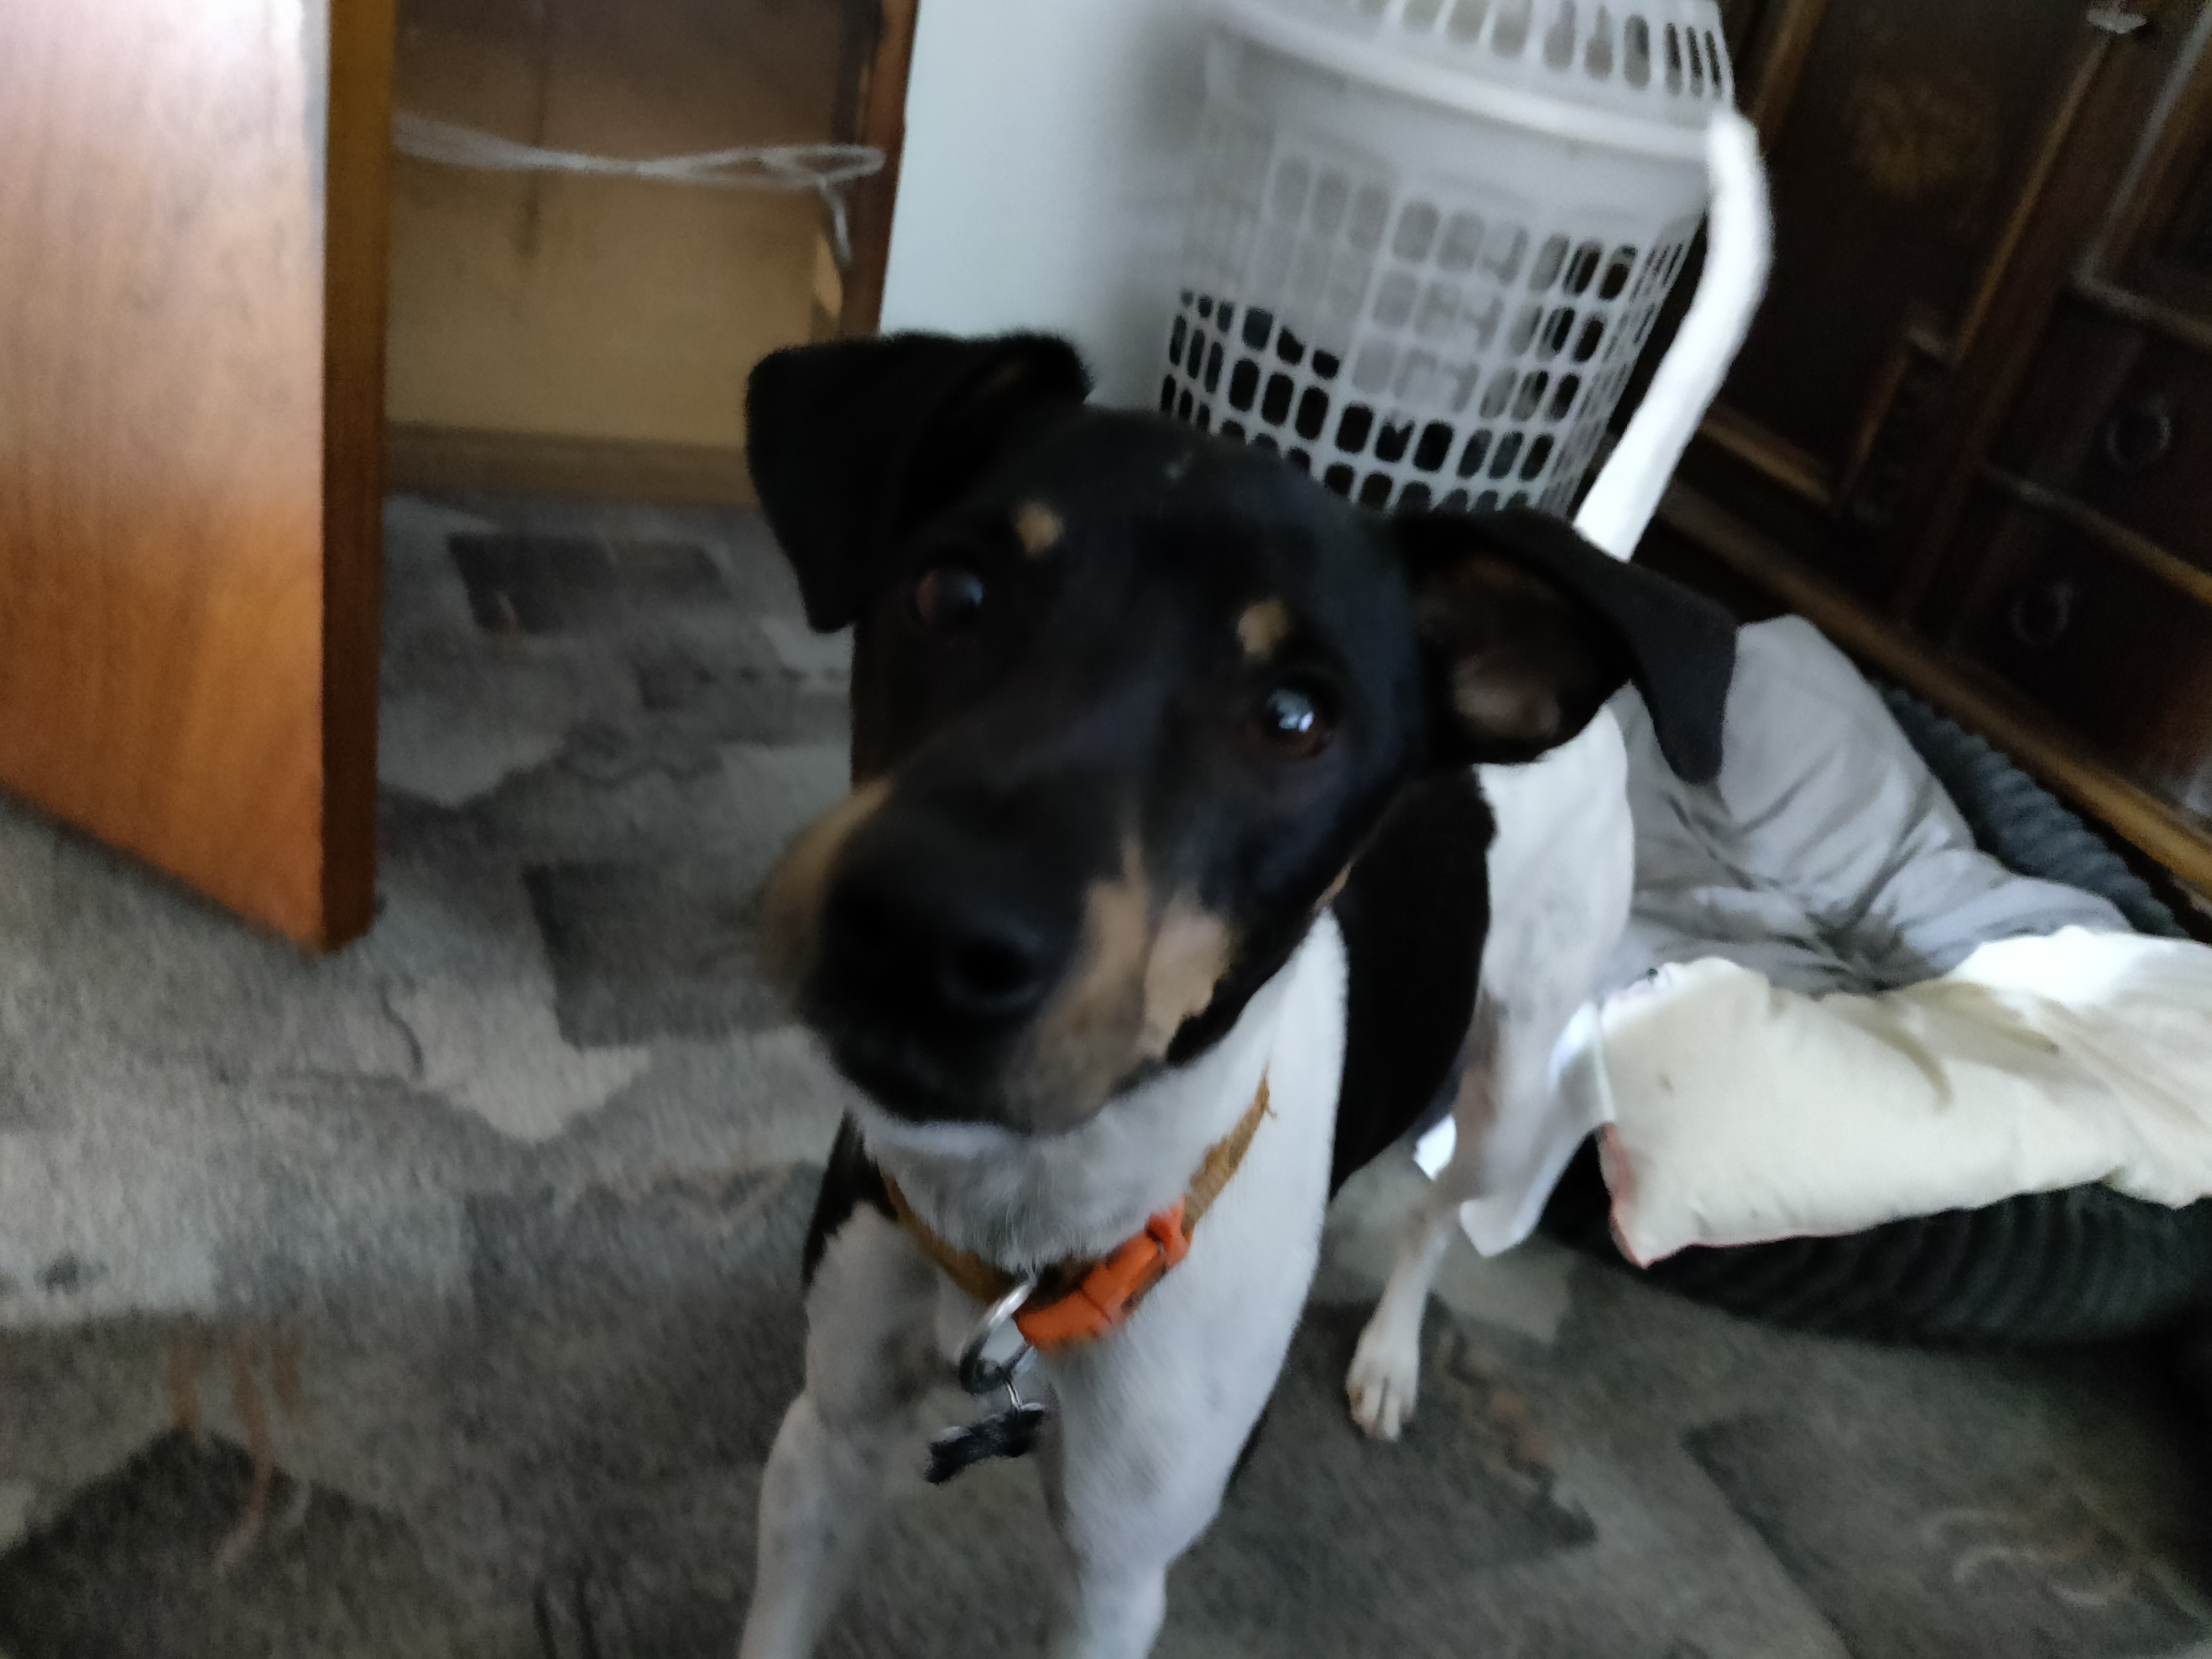Dog: (714, 307, 1745, 1659)
